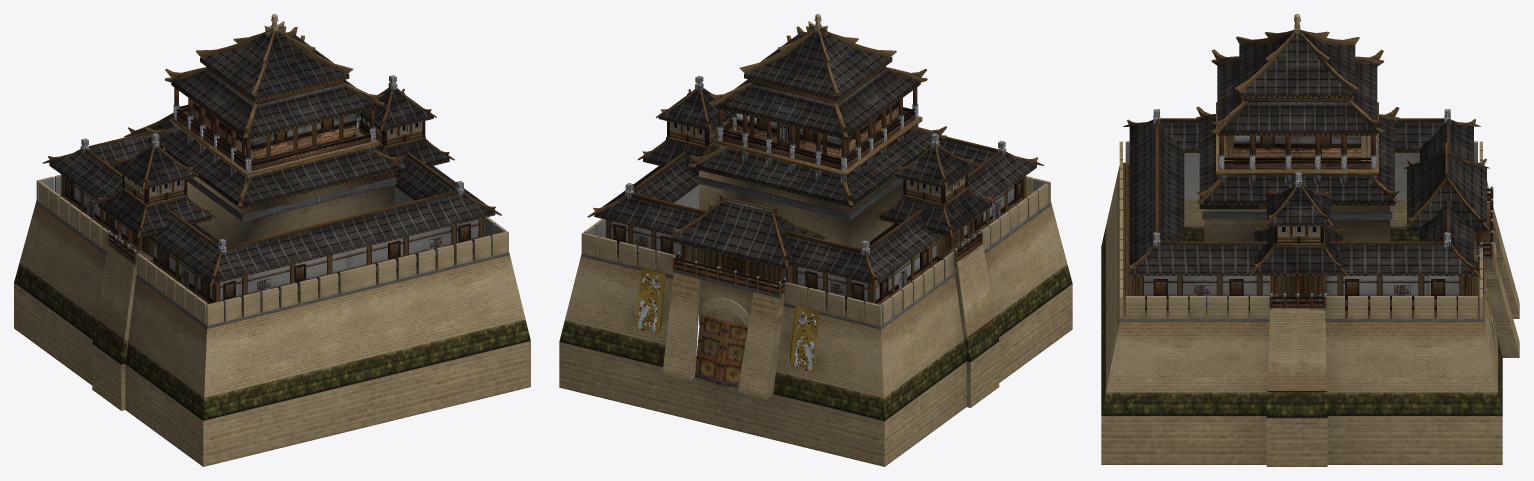
The model's file is han_fortress_old.glb.
3 views of the same model, side by side, from view 1: azimuth 30°, elevation 25°; view 2: azimuth 150°, elevation 25°; view 3: azimuth 270°, elevation 25° (orthographic). The views are drawn at different scales.
Parts seen in each view (by area): view 1: han_fortress_old_part0; view 2: han_fortress_old_part0; view 3: han_fortress_old_part0.
Part boxes in pixels (x1=…): han_fortress_old_part0: x1=14, y1=14, x2=530, y2=466; han_fortress_old_part0: x1=559, y1=14, x2=1072, y2=466; han_fortress_old_part0: x1=1101, y1=14, x2=1519, y2=466.
Bounding box in the file's own units: 5.9 × 5.79 × 6.
1 material, 1 textured.
